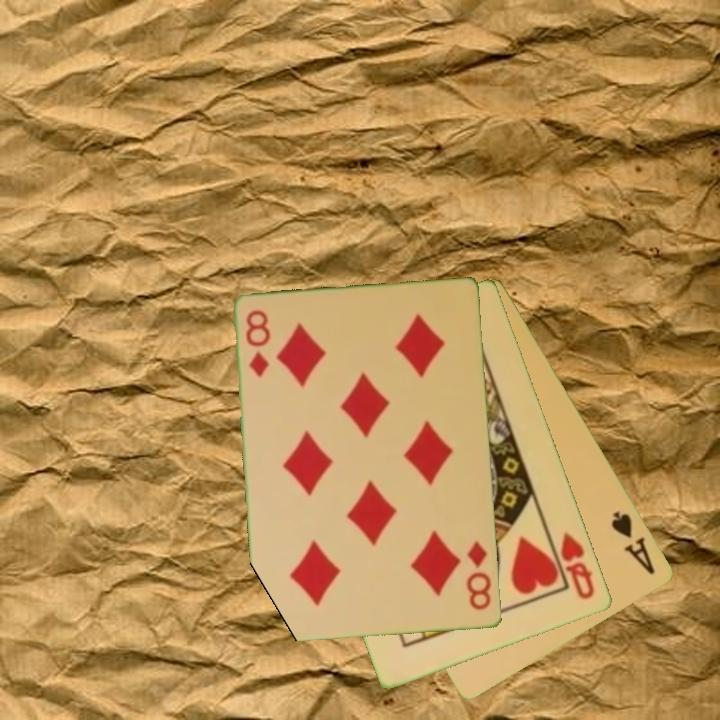8d: (463, 538, 495, 613), (242, 307, 273, 380)
As: (608, 507, 659, 578)
Qh: (557, 529, 598, 603)
